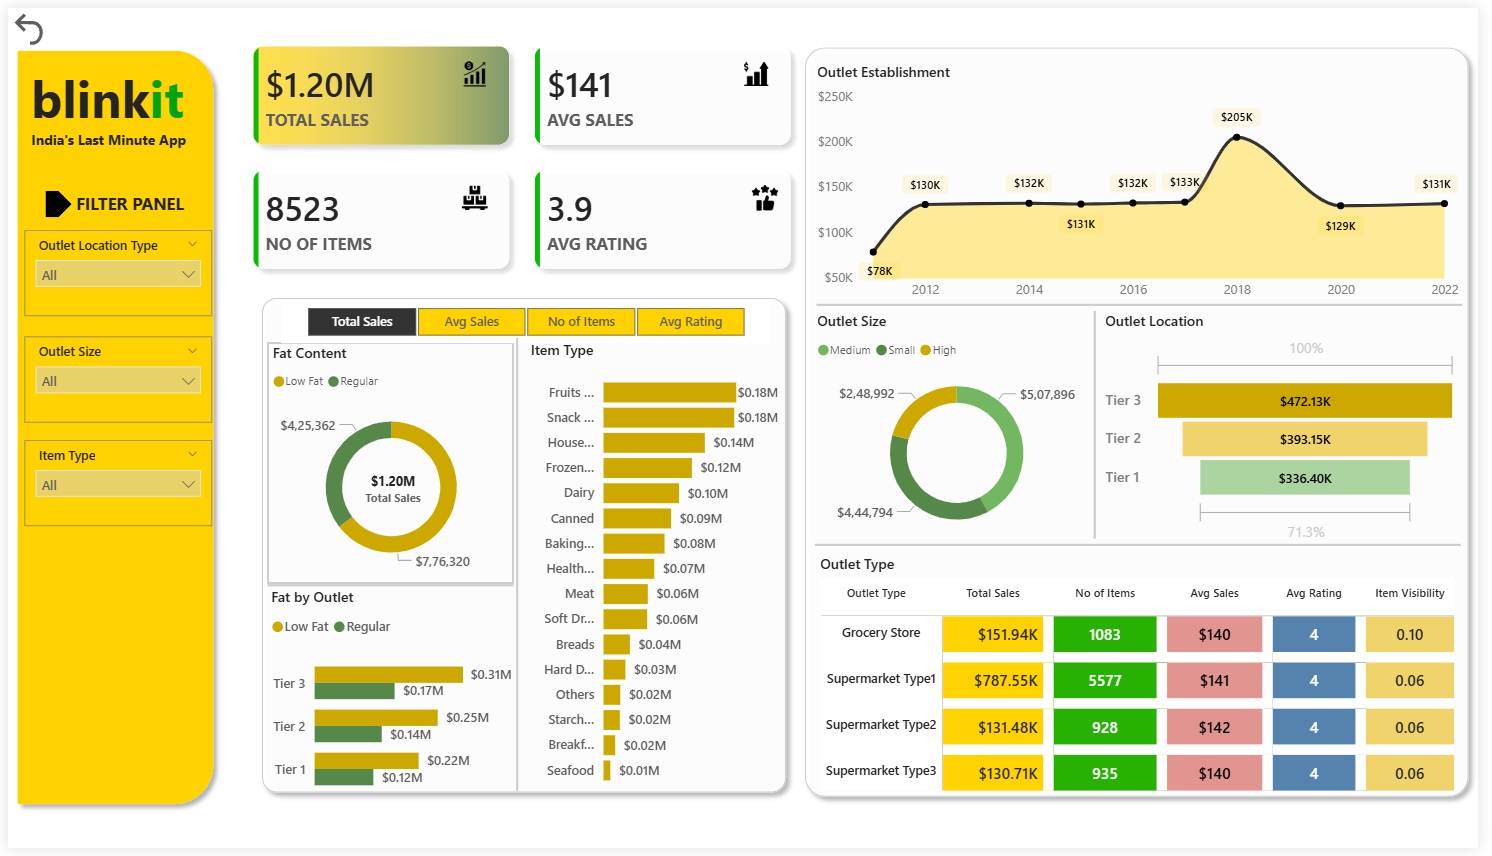

The page's visual inventory and layout, read from the dashboard file:
{"tool":"powerbi","page":{"name":"Dashoard","canvas":[1400,800],"ordinal":0},"visuals":[{"type":"shape","box":[0,31.2,204.7,735.9],"z":0},{"type":"textbox","box":[17.2,46.9,171.9,79.7],"z":1000},{"type":"textbox","box":[17.2,109.4,179.7,34.4],"z":2000},{"type":"cardVisual","fields":{"Data":["BlinkIT Grocery Data.Total Sales","BlinkIT Grocery Data.Avg Sales","BlinkIT Grocery Data.No of Items","BlinkIT Grocery Data.Avg Rating"]},"box":[204.7,7.8,570.3,270.3],"z":3000},{"type":"shape","box":[232.8,267.2,517.2,489.1],"z":4000},{"type":"donutChart","title":"Fat Content","fields":{"Y":["BlinkIT Grocery Data.Total Sales"],"Category":["BlinkIT Grocery Data.Item Fat Content"]},"box":[246.7,318.3,235,230],"z":5000},{"type":"slicer","fields":{"Values":["Metrix.Metrix"]},"box":[259.4,278.1,465.6,40.6],"z":6000},{"type":"cardVisual","fields":{"Data":["BlinkIT Grocery Data.Total Sales"]},"box":[308.3,423.3,116.7,70],"z":7000},{"type":"clusteredBarChart","title":"Fat by Outlet","fields":{"Y":["BlinkIT Grocery Data.Total Sales"],"Category":["BlinkIT Grocery Data.Outlet Location Type"],"Series":["BlinkIT Grocery Data.Item Fat Content"]},"box":[245,551.7,238.3,211.7],"z":8000},{"type":"shape","box":[246.9,543.8,234.4,10.9],"z":9000},{"type":"shape","box":[750,28.3,650,731.7],"z":10000},{"type":"shape","box":[476.6,314.1,15.6,431.2],"z":11000},{"type":"barChart","title":"Item Type","fields":{"Y":["BlinkIT Grocery Data.Total Sales"],"Category":["BlinkIT Grocery Data.Item Type"]},"box":[492.2,315.6,245.3,434.4],"z":12000},{"type":"lineChart","title":"Outlet Establishment ","fields":{"Category":["BlinkIT Grocery Data.Outlet Establishment Year"],"Y":["BlinkIT Grocery Data.Total Sales"]},"box":[765.6,51.7,620,235],"z":13000},{"type":"shape","box":[770.6,278.3,615,8.3],"z":14000},{"type":"donutChart","title":"Outlet Size","fields":{"Y":["BlinkIT Grocery Data.Total Sales"],"Category":["BlinkIT Grocery Data.Outlet Size"]},"box":[765.6,288.3,275,225],"z":15000},{"type":"shape","box":[1030.6,288.3,10,216.7],"z":16000},{"type":"funnel","title":"Outlet Location","fields":{"Category":["BlinkIT Grocery Data.Outlet Location Type"],"Y":["BlinkIT Grocery Data.Total Sales"]},"box":[1040.6,288.3,345,225],"z":17000},{"type":"shape","box":[768.9,506.7,615,8.3],"z":18000},{"type":"pivotTable","title":"Outlet Type","fields":{"Rows":["BlinkIT Grocery Data.Outlet Type"],"Values":["BlinkIT Grocery Data.Total Sales","BlinkIT Grocery Data.No of Items","BlinkIT Grocery Data.Avg Sales","BlinkIT Grocery Data.Avg Rating","Avg(BlinkIT Grocery Data.Item Visibility)"]},"box":[768.9,520,615,245],"z":19000},{"type":"slicer","fields":{"Values":["BlinkIT Grocery Data.Outlet Location Type"]},"box":[15,211.3,178.3,81.7],"z":20000},{"type":"slicer","fields":{"Values":["BlinkIT Grocery Data.Outlet Size"]},"box":[15,313,178.3,81.7],"z":21000},{"type":"slicer","fields":{"Values":["BlinkIT Grocery Data.Item Type"]},"box":[15,411.3,178.3,81.7],"z":22000},{"type":"textbox","box":[60,170,128.3,43.3],"z":23000},{"type":"actionButton","box":[0,0,48.3,40],"z":24000},{"type":"shape","box":[35,174.4,25,25],"z":25000}]}

Visuals, with their boxes in screenshot pixels (x1, y1, x2, y2), scaled from the page's 1400x800 canvas onto the 1492x856 screenshot:
shape: bbox=(0, 33, 218, 821)
textbox: bbox=(18, 50, 202, 135)
textbox: bbox=(18, 117, 210, 154)
cardVisual - BlinkIT Grocery Data.Total Sales x BlinkIT Grocery Data.Avg Sales: bbox=(218, 8, 826, 298)
shape: bbox=(248, 286, 799, 809)
"Fat Content" donutChart: bbox=(263, 341, 513, 587)
slicer - Metrix.Metrix: bbox=(276, 298, 773, 341)
cardVisual - BlinkIT Grocery Data.Total Sales: bbox=(329, 453, 453, 528)
"Fat by Outlet" clusteredBarChart: bbox=(261, 590, 515, 817)
shape: bbox=(263, 582, 513, 594)
shape: bbox=(799, 30, 1491, 813)
shape: bbox=(508, 336, 525, 797)
"Item Type" barChart: bbox=(525, 338, 786, 802)
"Outlet Establishment " lineChart: bbox=(816, 55, 1477, 307)
shape: bbox=(821, 298, 1477, 307)
"Outlet Size" donutChart: bbox=(816, 308, 1109, 549)
shape: bbox=(1098, 308, 1109, 540)
"Outlet Location" funnel: bbox=(1109, 308, 1477, 549)
shape: bbox=(819, 542, 1475, 551)
"Outlet Type" pivotTable: bbox=(819, 556, 1475, 819)
slicer - BlinkIT Grocery Data.Outlet Location Type: bbox=(16, 226, 206, 314)
slicer - BlinkIT Grocery Data.Outlet Size: bbox=(16, 335, 206, 422)
slicer - BlinkIT Grocery Data.Item Type: bbox=(16, 440, 206, 528)
textbox: bbox=(64, 182, 201, 228)
actionButton: bbox=(0, 0, 51, 43)
shape: bbox=(37, 187, 64, 213)
